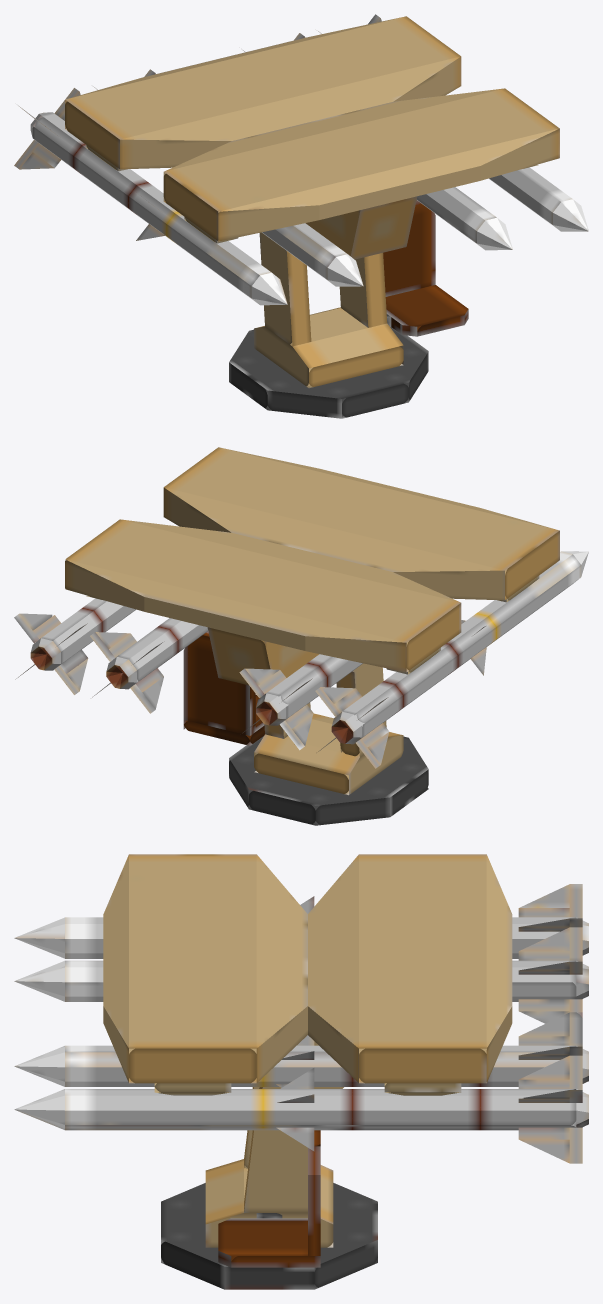
File: samlauncherv3.obj
3 renders of one model, top to bottom at view 1: azimuth 30°, elevation 25°; view 2: azimuth 150°, elevation 25°; view 3: azimuth 270°, elevation 25°, orthographic. The views are drawn at different scales.
Parts seen in each view (by area): view 1: 85, 84, 4, 65, 3, 94, 2, 6, 5, 1, 64, 8 (+5 smaller); view 2: 84, 85, 4, 65, 3, 6, 94, 64, 45, 8, 2, 5 (+4 smaller); view 3: 85, 84, 8, 4, 45, 1, 5, 3, 64, 65, 6, 9 (+12 smaller).
Part boxes in pixels (x1,y1,x2,y2): 85: [163, 88, 559, 241]; 84: [65, 16, 461, 169]; 4: [229, 327, 428, 418]; 65: [32, 112, 271, 302]; 3: [254, 307, 403, 388]; 94: [305, 196, 417, 259]; 2: [259, 232, 311, 346]; 6: [383, 200, 435, 296]; 5: [385, 285, 468, 336]; 1: [339, 253, 387, 327]; 64: [262, 223, 346, 284]; 8: [489, 167, 572, 230]; 84: [65, 519, 461, 672]; 85: [163, 447, 559, 600]; 4: [229, 736, 428, 825]; 65: [342, 551, 581, 737]; 3: [254, 713, 403, 795]; 6: [183, 631, 255, 735]; 94: [207, 627, 319, 685]; 64: [267, 654, 362, 719]; 45: [117, 618, 208, 683]; 8: [41, 598, 135, 665]; 2: [336, 663, 386, 756]; 5: [183, 695, 264, 745]; 85: [103, 854, 307, 1083]; 84: [308, 854, 512, 1083]; 8: [65, 1089, 576, 1130]; 4: [161, 1183, 377, 1289]; 45: [65, 1045, 576, 1086]; 1: [244, 1041, 343, 1212]; 5: [218, 1218, 320, 1267]; 3: [205, 1159, 333, 1247]; 64: [65, 960, 576, 1001]; 65: [65, 917, 576, 958]; 6: [308, 1130, 320, 1255]; 9: [14, 1089, 64, 1129].
Bounding box in the file's own units: 4.77 × 3.16 × 5.62.
